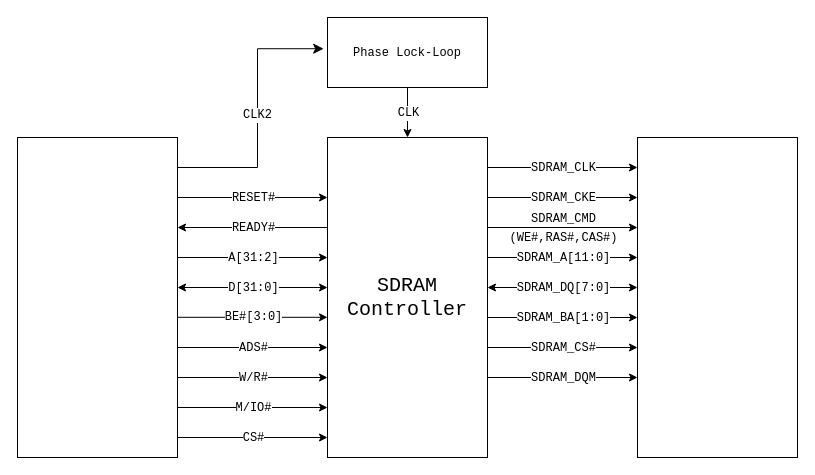
Some shapes in this 815 by 475 pixel diagram are drawn without their labels. Here are the shapes that lost their labels. From the top down, the centre of each, then its label:
pixel 97 297: Microprocessor 80386DX
pixel 717 297: SDRAM Memory MT48LC8M8A2TG-75
